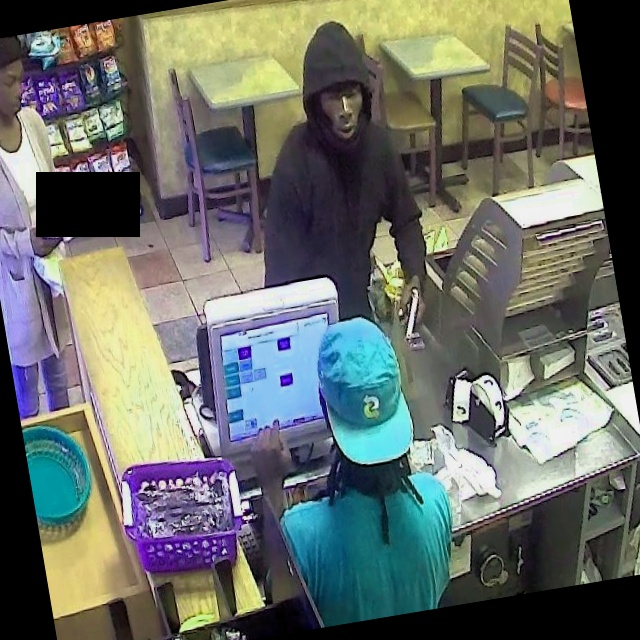gun: (382, 274, 437, 345)
